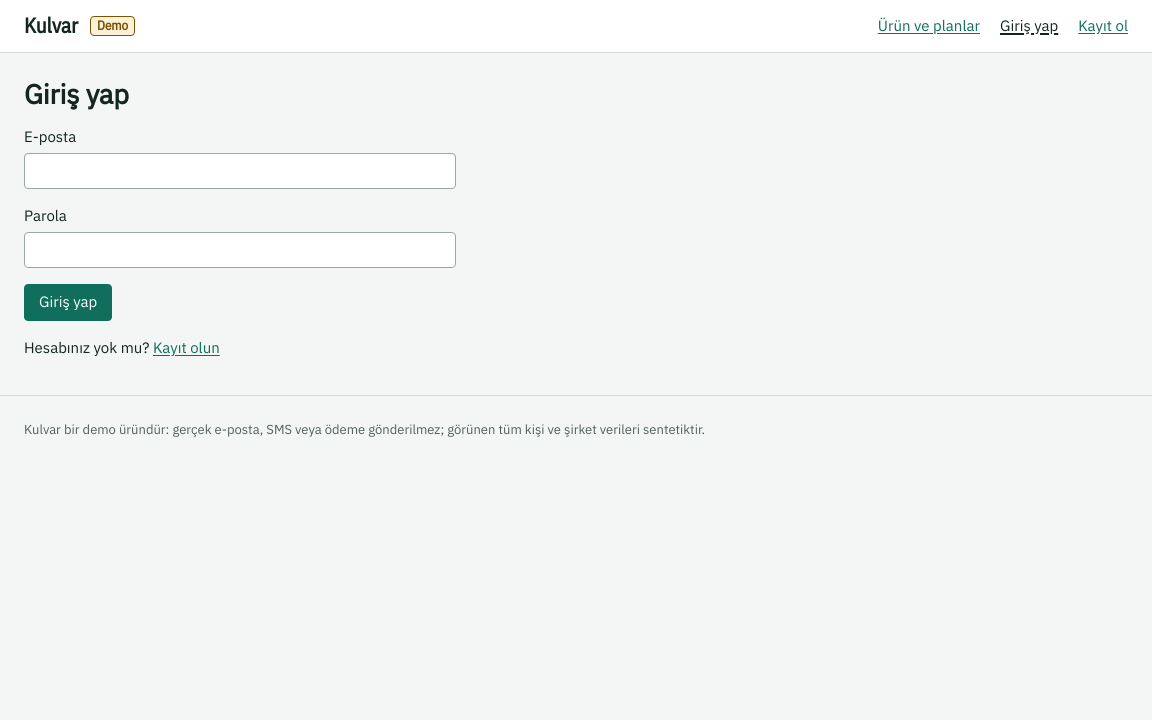
Test case: formlar › giriş hatası hangi alanın yanlış olduğunu söylemez; hız sınırı bekleme süresini söyler
Type "ayse@ornek.test" into the field labelled "E-posta".
click(240, 171); type("ayse@ornek.test")  # box top-left (24, 153), bottom-right (456, 189)
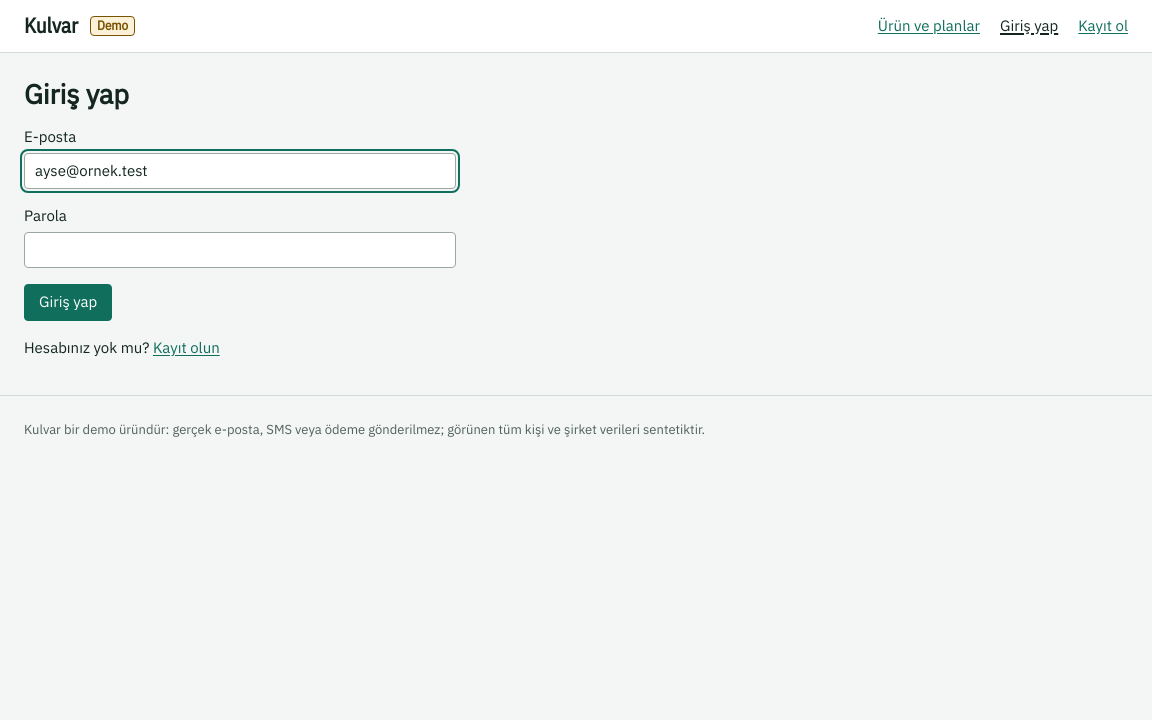
Type "yanlis-parola-1" into the password field labelled "Parola".
click(240, 250); type("yanlis-parola-1")  # box top-left (24, 232), bottom-right (456, 268)
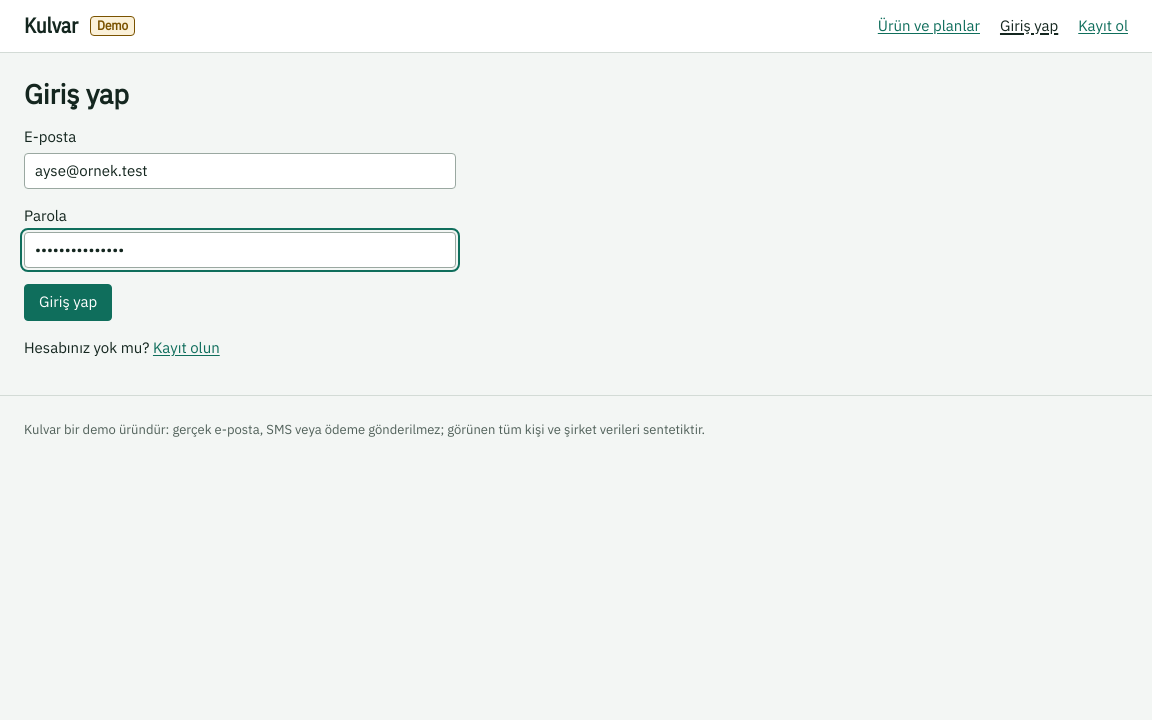
Click the button "Giriş yap".
click(68, 303)  # box top-left (24, 284), bottom-right (112, 321)
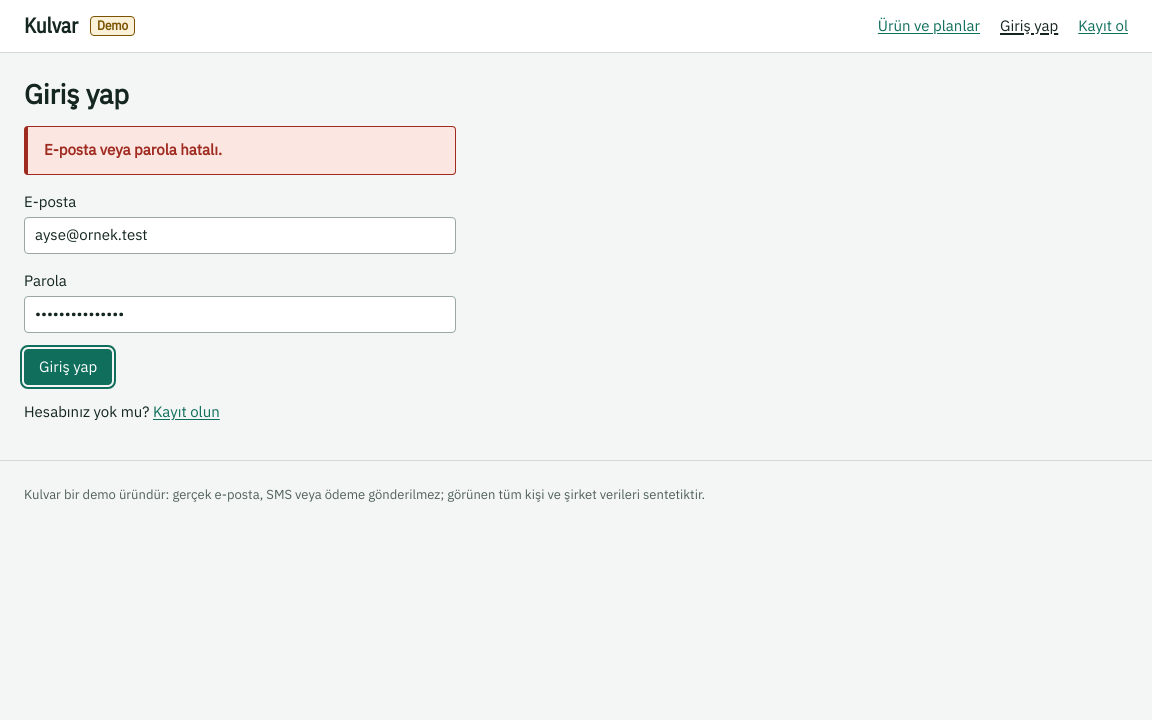
Expected: the message reads "E-posta veya parola hatalı.", top-left (44, 140), bottom-right (222, 159)
Click the button "Giriş yap".
click(68, 367)  # box top-left (24, 349), bottom-right (112, 385)
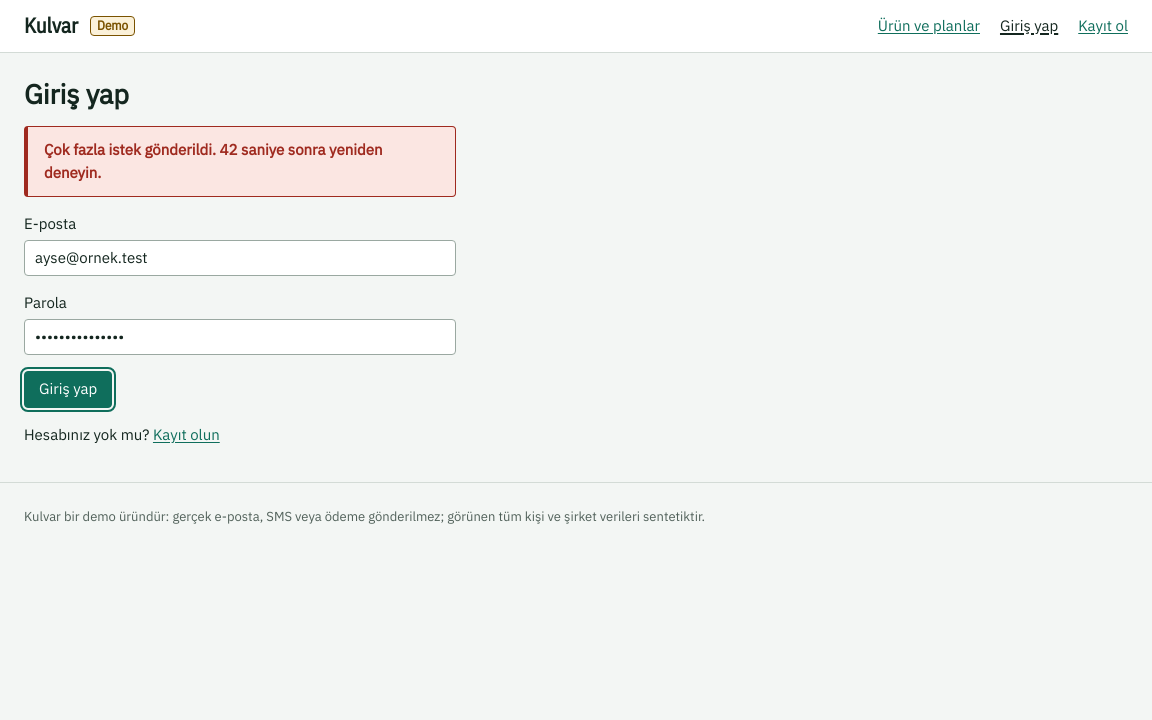
Expected: the text "Çok fazla istek gönderildi. 42 saniye sonra yeniden deneyin." is shown, top-left (44, 139), bottom-right (439, 184)
